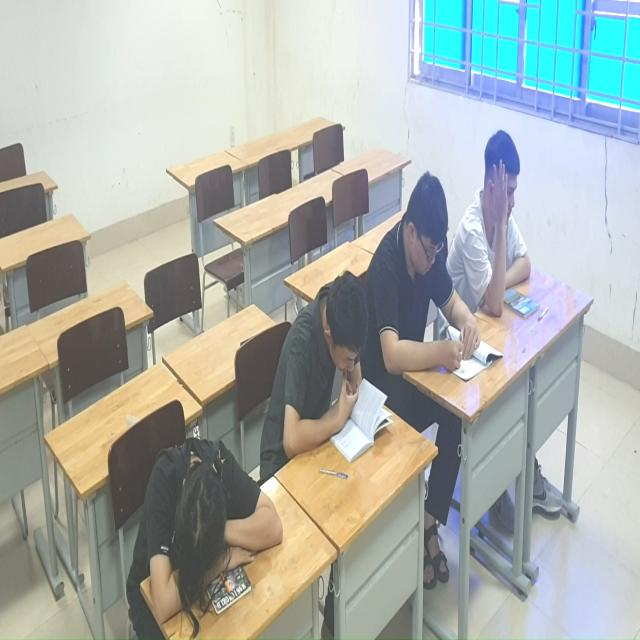raise_hand: (460, 127, 551, 331)
read: (251, 262, 397, 483), (372, 177, 507, 379)
sleep: (113, 427, 294, 640)
